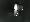person: (16, 5, 24, 17)
